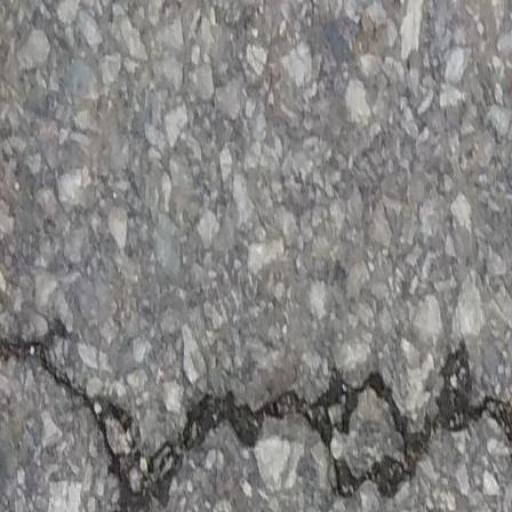spalling: (1, 331, 506, 512)
